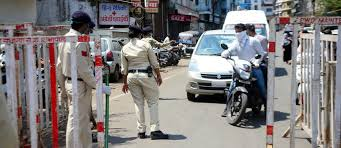mask: (233, 24, 245, 38)
